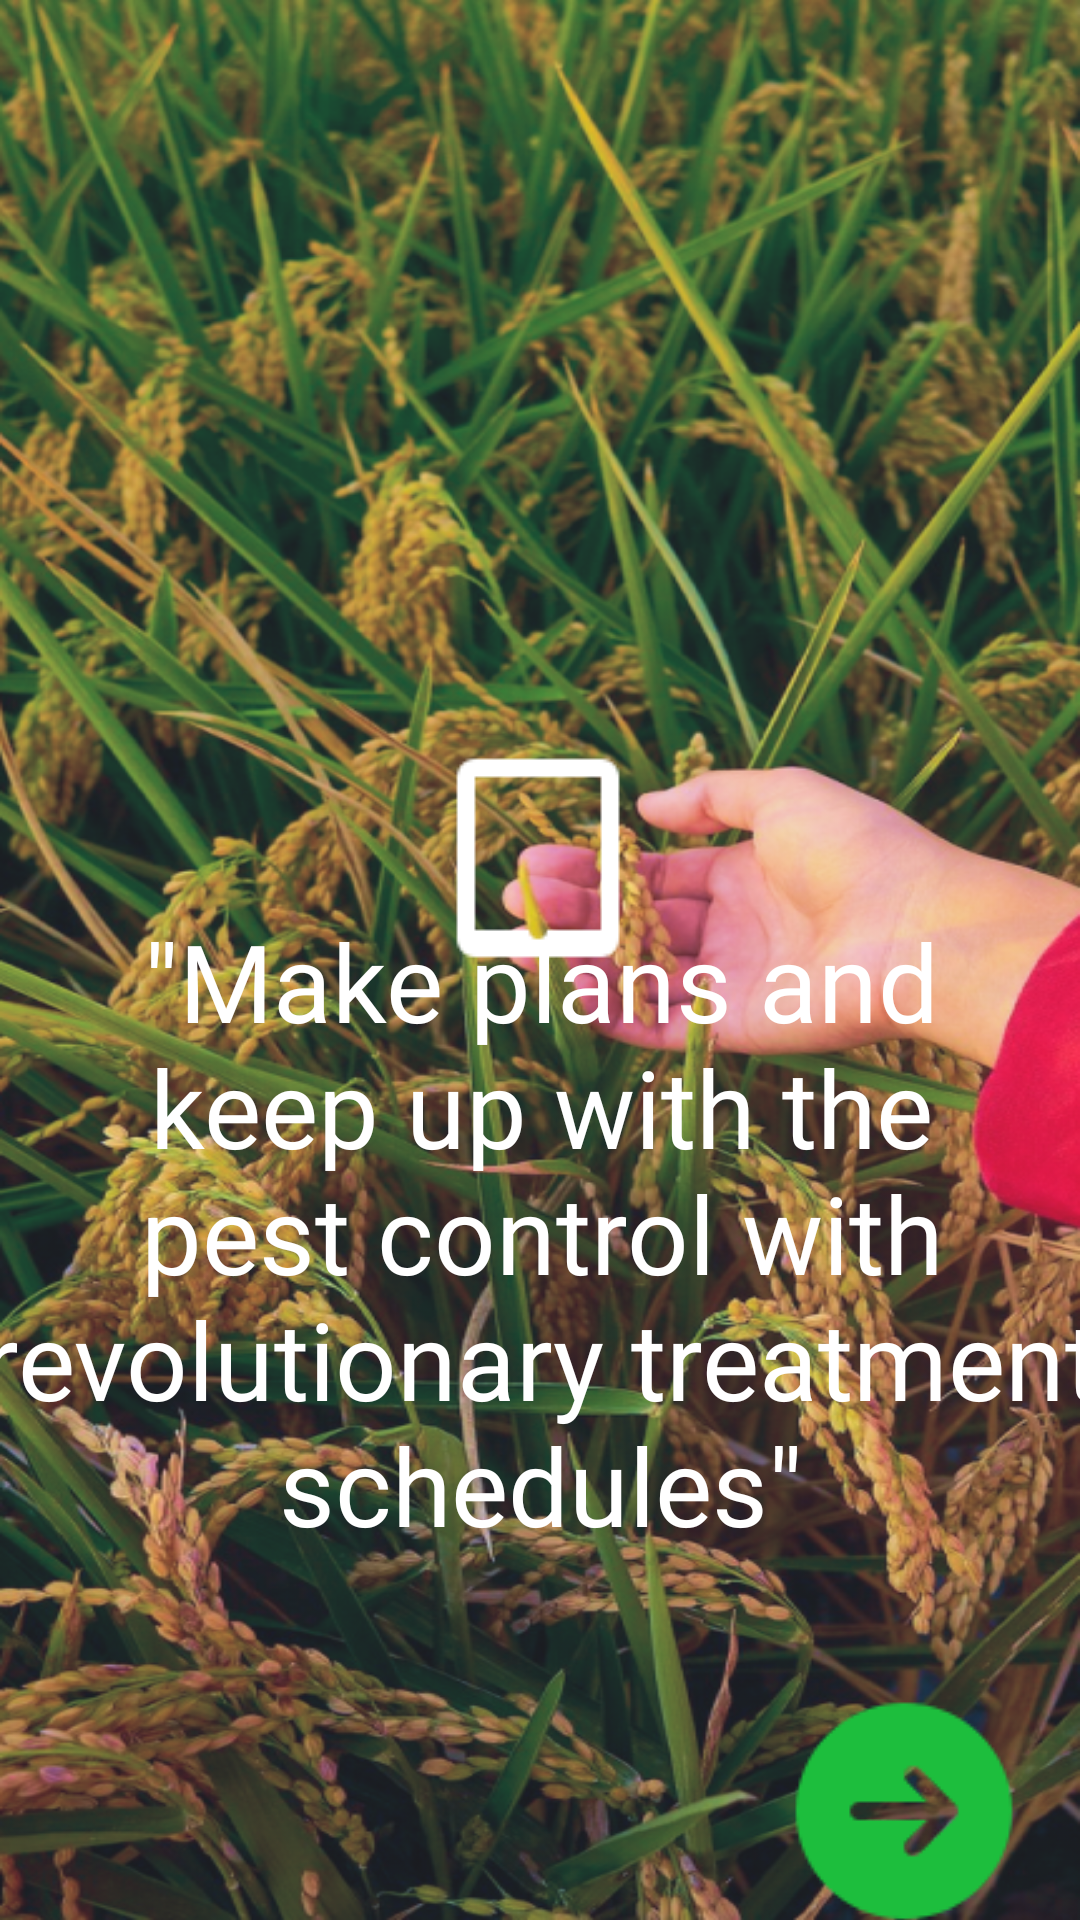

Screen size 1080 x 1920. Icon name, then its center in pixels as (x=x, y=y):
next: (x=903, y=1802)
